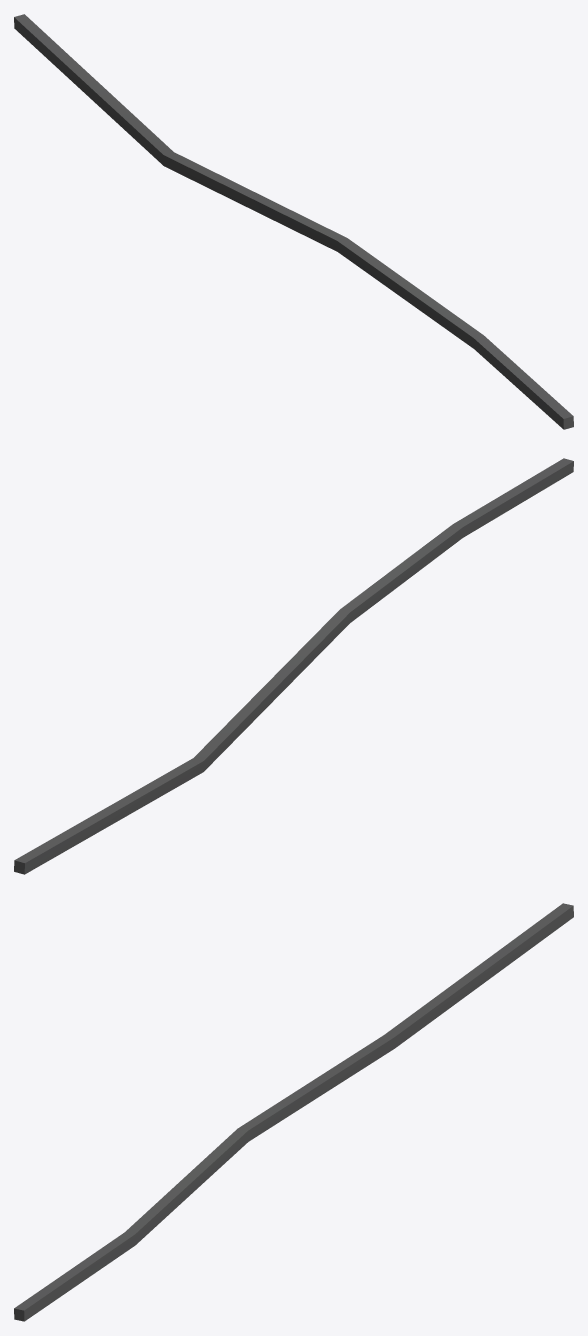
File: RreinforcingBars_B_4_.glb
The picture shows the model from 3 angles, top to bottom: view 1: azimuth 30°, elevation 25°; view 2: azimuth 150°, elevation 25°; view 3: azimuth 330°, elevation 25°; orthographic projection.
Parts seen in each view (by area): view 1: RreinforcingBars_B_4; view 2: RreinforcingBars_B_4; view 3: RreinforcingBars_B_4.
Boxes of the visible parts, left/top/right/bottom form: RreinforcingBars_B_4: left=14, top=14, right=573, bottom=429; RreinforcingBars_B_4: left=14, top=458, right=573, bottom=874; RreinforcingBars_B_4: left=14, top=903, right=573, bottom=1321.
Bounding box in the file's own units: 0.0764 × 0.0773 × 1.97.
1 material, 1 textured.
